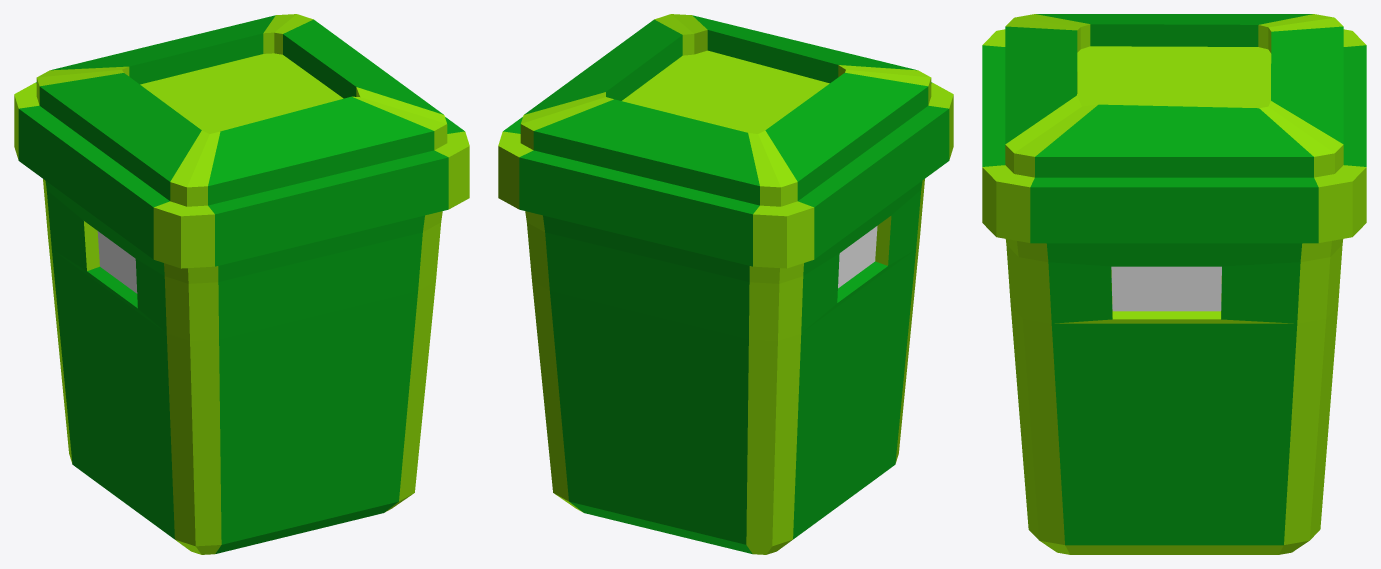
Rendered from Tong sampah.2.fbx.
3 renders of one model, left to right at view 1: azimuth 30°, elevation 25°; view 2: azimuth 150°, elevation 25°; view 3: azimuth 270°, elevation 25°, orthographic. The views are drawn at different scales.
Parts seen in each view (by area): view 1: Dustbin2.002; view 2: Dustbin2.002; view 3: Dustbin2.002.
Part boxes in pixels (bbox=[...]): Dustbin2.002: bbox=[14, 14, 469, 554]; Dustbin2.002: bbox=[498, 14, 953, 554]; Dustbin2.002: bbox=[982, 14, 1366, 554].
Bounding box in the file's own units: 64.28 × 81.36 × 64.28.
